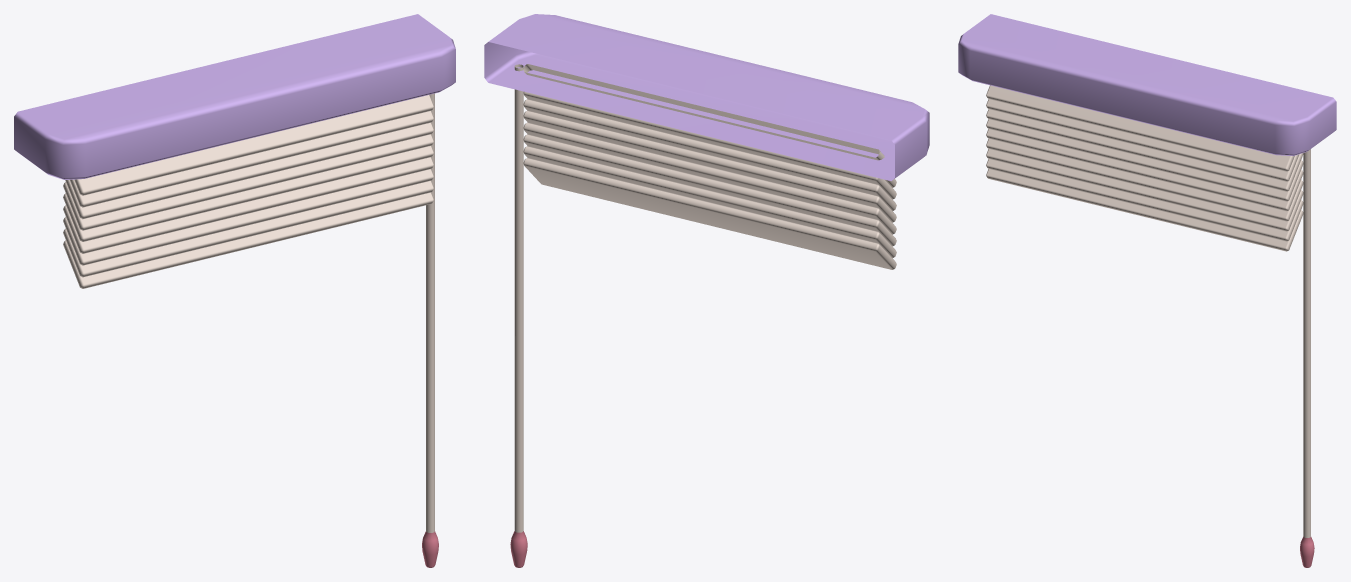
Rendered from Blinds_1.glb.
3 views of the same model, side by side, from view 1: azimuth 30°, elevation 25°; view 2: azimuth 150°, elevation 25°; view 3: azimuth 330°, elevation 25° (orthographic). The views are drawn at different scales.
Parts seen in each view (by area): view 1: Blinds_1; view 2: Blinds_1; view 3: Blinds_1.
Part boxes in pixels (x1,y1,x2,y2): Blinds_1: [14, 14, 455, 567]; Blinds_1: [484, 14, 929, 567]; Blinds_1: [958, 14, 1336, 567].
Size of the model in its own units: 1.46 by 1.83 by 0.2858.
1 material, 1 textured.
